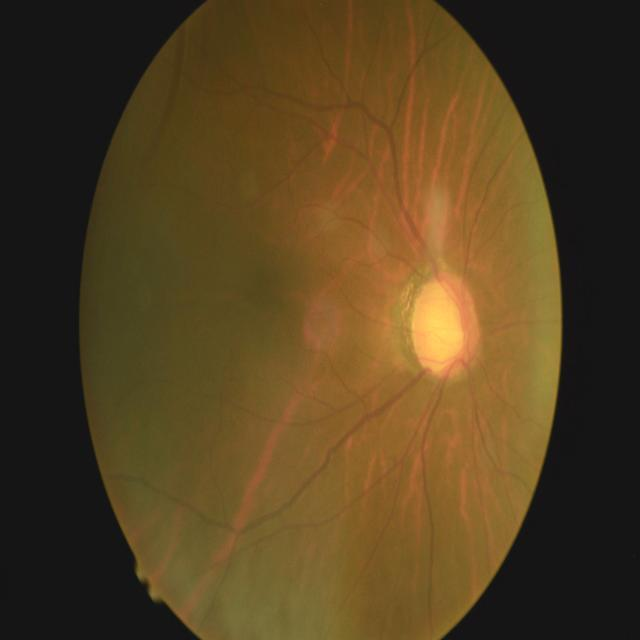cup: (414, 282, 474, 374)
disk: (411, 270, 482, 378)
